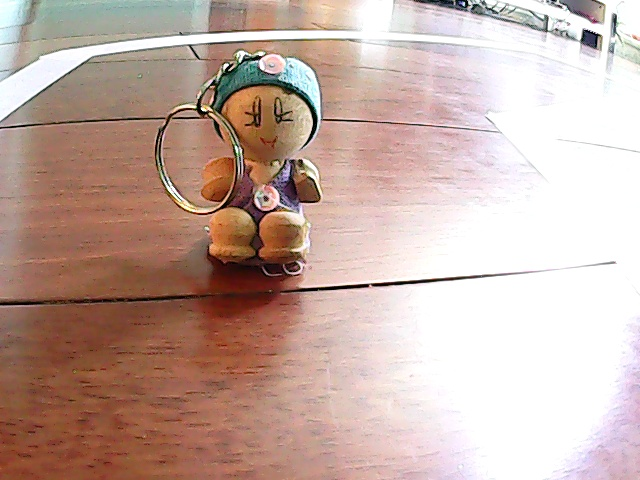pedestrain: (176, 51, 337, 287)
